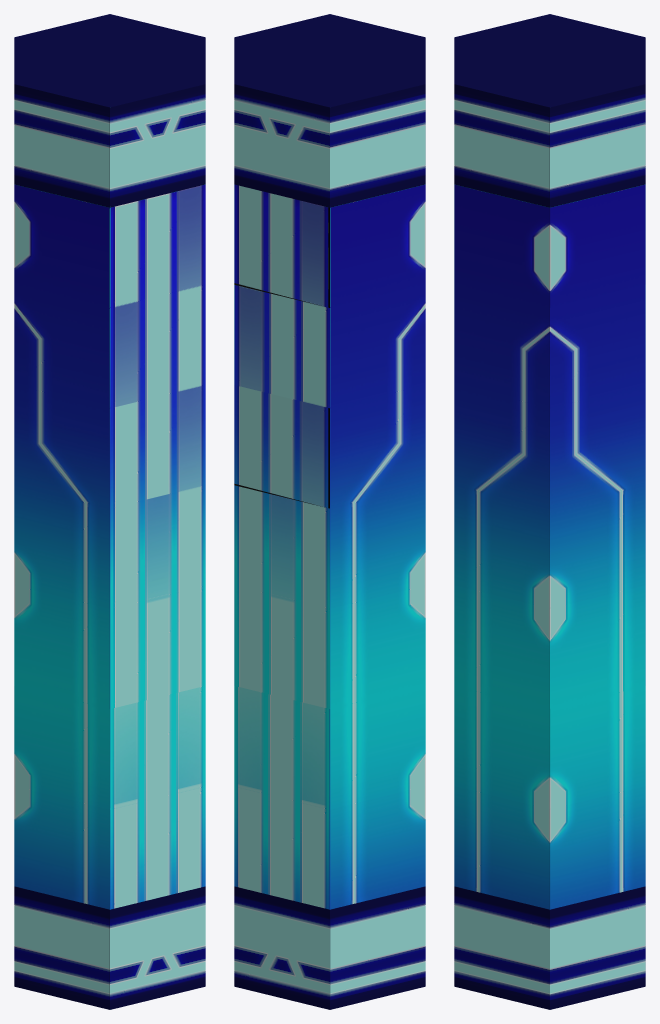
The model's file is PLAG_SimpleBldg_09.obj.
3 renders of one model, left to right at view 1: azimuth 30°, elevation 25°; view 2: azimuth 150°, elevation 25°; view 3: azimuth 270°, elevation 25°, orthographic.
Visible parts, largest first — view 1: PLAG_SimpleBldg_09; view 2: PLAG_SimpleBldg_09; view 3: PLAG_SimpleBldg_09.
Boxes of the visible parts, box(x1,y1,x2,y2) form: PLAG_SimpleBldg_09: box(14, 14, 205, 1009); PLAG_SimpleBldg_09: box(234, 14, 425, 1009); PLAG_SimpleBldg_09: box(454, 14, 645, 1009).
Bounding box in the file's own units: 200 × 900 × 173.
